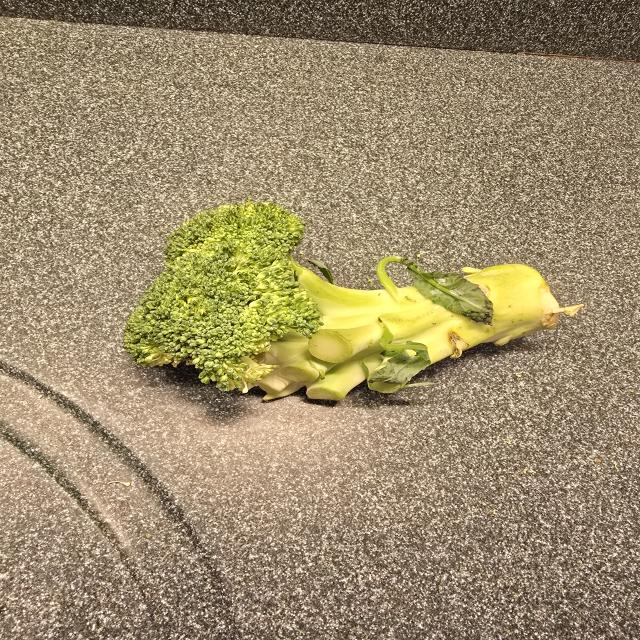Broccoli: (122, 203, 563, 407)
